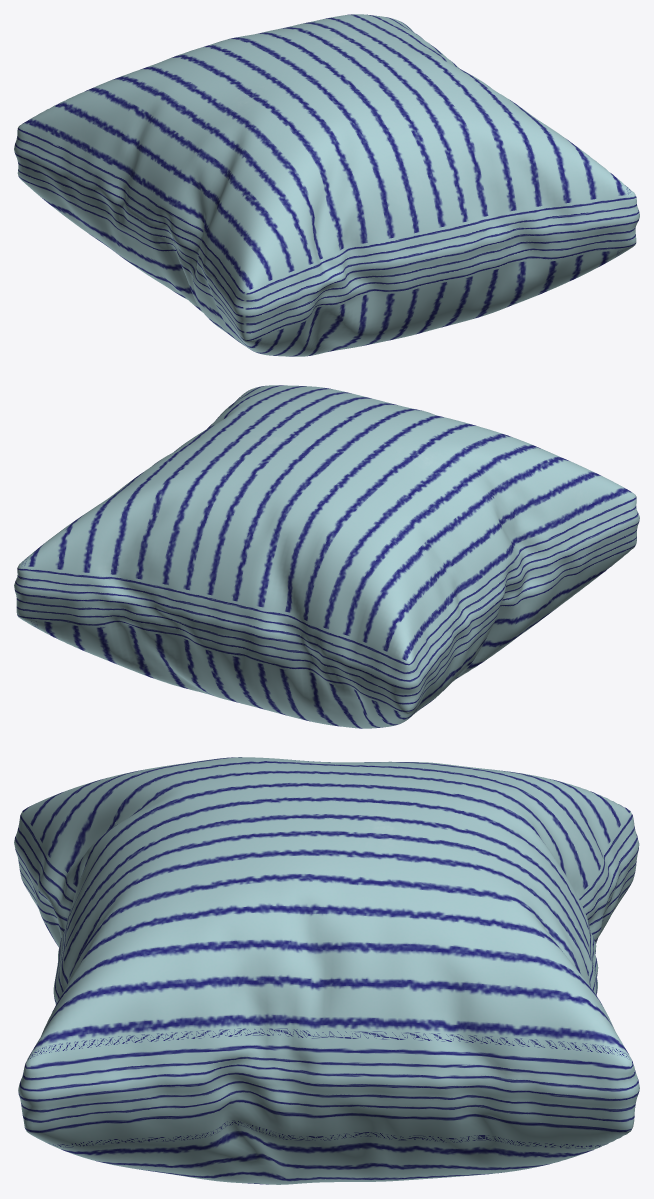
Rendered from coussin_texture.fbx.
3 views of the same model, one above another, from view 1: azimuth 30°, elevation 25°; view 2: azimuth 150°, elevation 25°; view 3: azimuth 270°, elevation 25° (orthographic). The views are drawn at different scales.
Visible parts, largest first — view 1: coussin; view 2: coussin; view 3: coussin.
Boxes of the visible parts, left/top/right/bottom form: coussin: left=14, top=14, right=639, bottom=356; coussin: left=14, top=385, right=639, bottom=728; coussin: left=14, top=757, right=639, bottom=1184.
Size of the model in its own units: 70.46 by 41.94 by 70.81.
